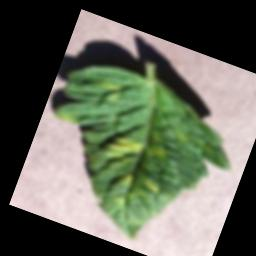Leaf_Mold: (100, 129, 145, 172), (110, 187, 135, 210), (143, 143, 167, 163), (136, 176, 160, 194), (54, 110, 79, 126), (116, 171, 133, 189)
